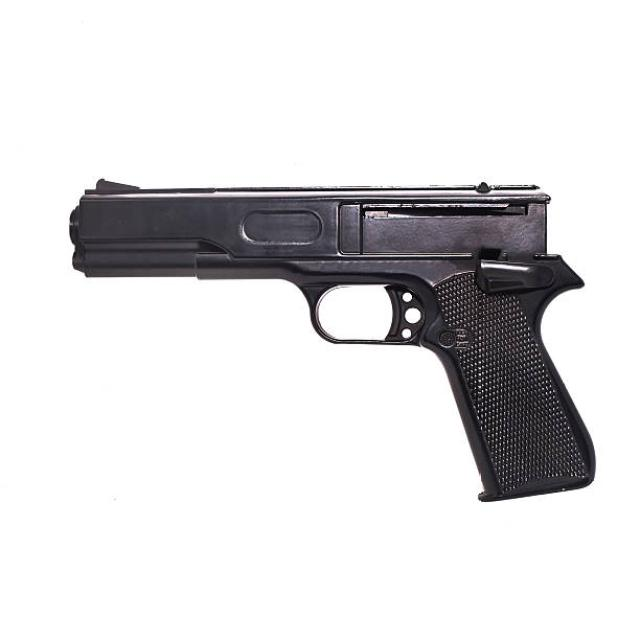pistol: (69, 174, 616, 505)
